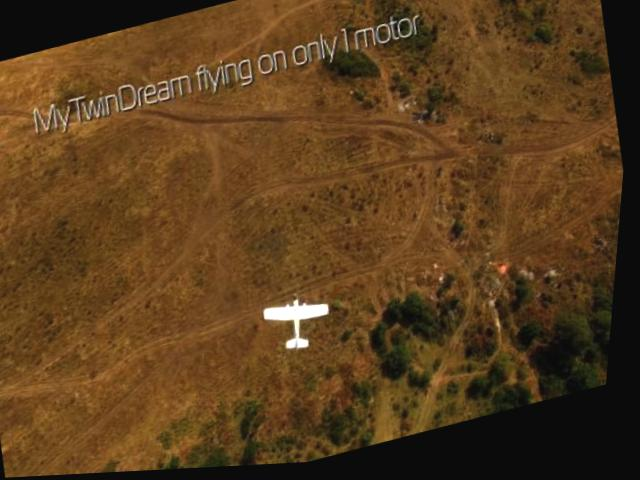uav: (257, 280, 352, 372)
